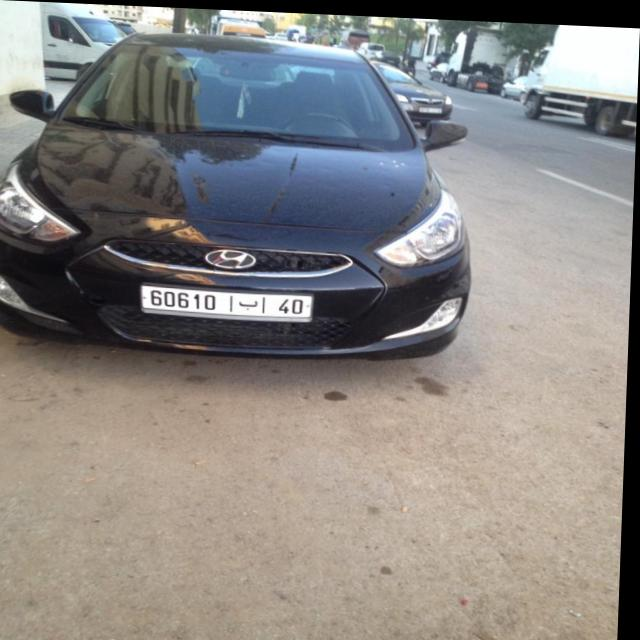License-Plate: (143, 283, 315, 319)
